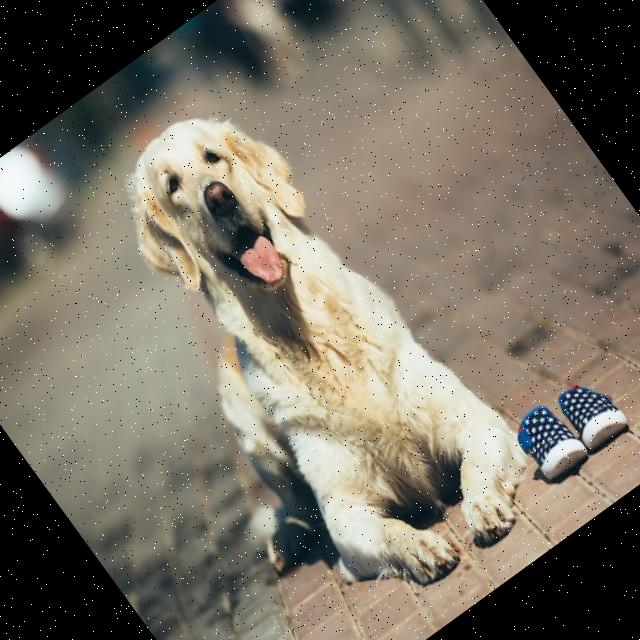Dog: (23, 62, 562, 640)
